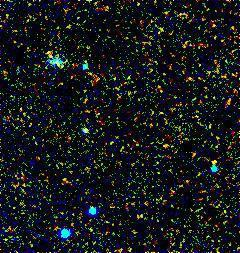star: (200, 145, 230, 175)
